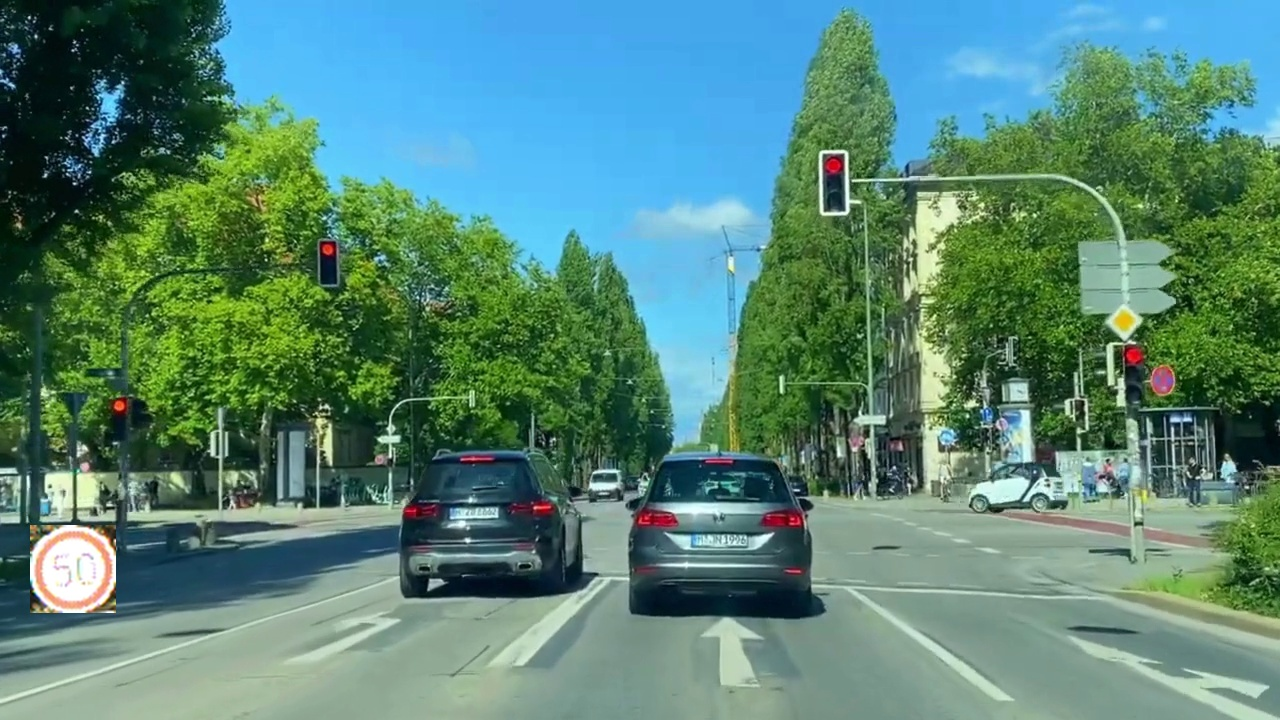Speed 50: (30, 525, 116, 613)
